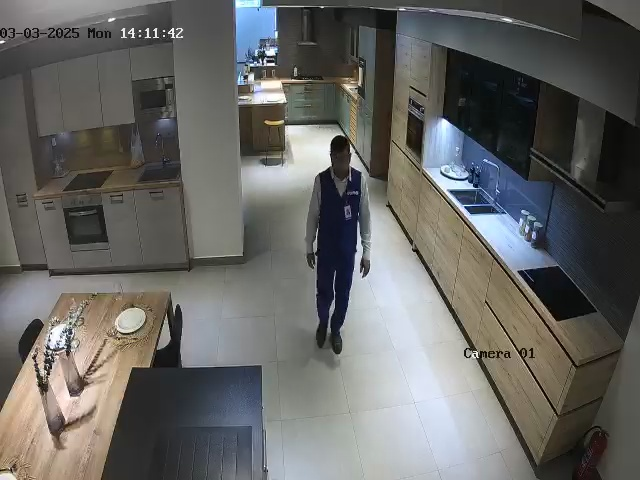employee: (304, 134, 372, 355)
